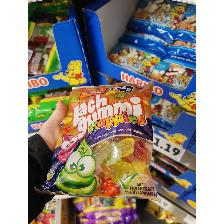Suessigkeit: (33, 79, 163, 202)
